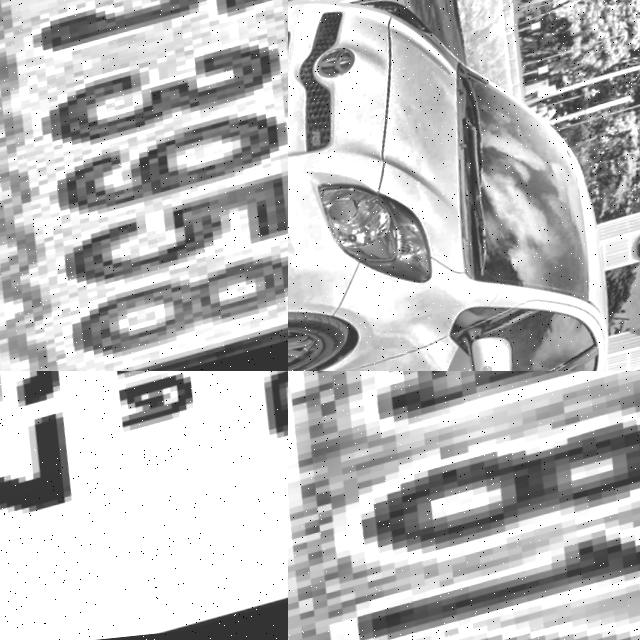license-plate: (0, 0, 288, 371), (288, 371, 640, 640), (0, 371, 288, 640), (288, 24, 309, 128)
